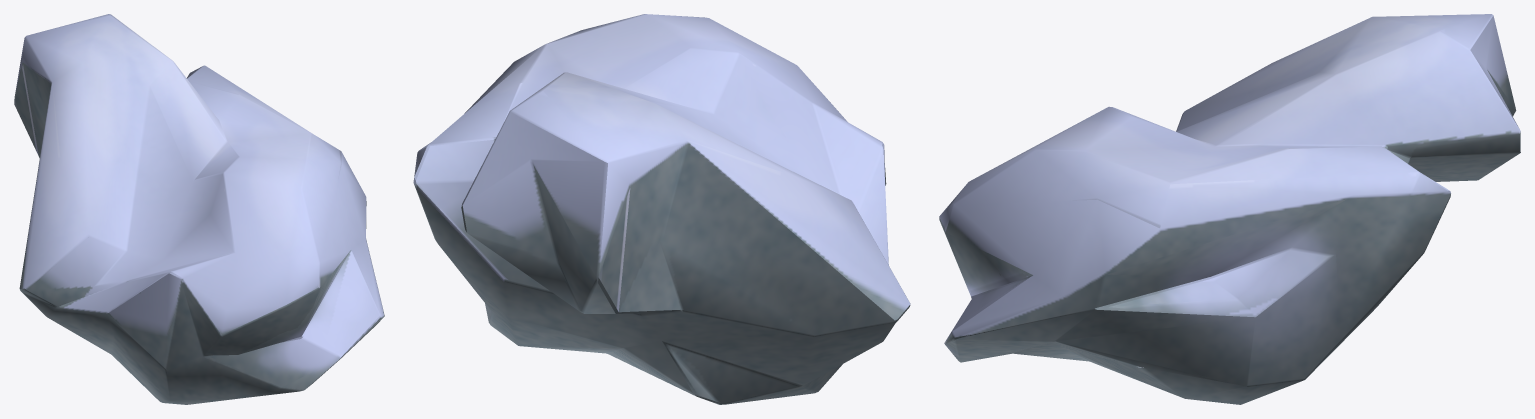
The model's file is Rock2.fbx.
The picture shows the model from 3 angles, left to right: view 1: azimuth 30°, elevation 25°; view 2: azimuth 150°, elevation 25°; view 3: azimuth 270°, elevation 25°; orthographic projection. The views are drawn at different scales.
Visible parts, largest first — view 1: Rock2; view 2: Rock2; view 3: Rock2.
Part boxes in pixels (box(x1,y1,x2,y2)): Rock2: box(14, 14, 384, 404); Rock2: box(413, 14, 910, 404); Rock2: box(939, 14, 1520, 404).
Size of the model in its own units: 591 by 529 by 751.
